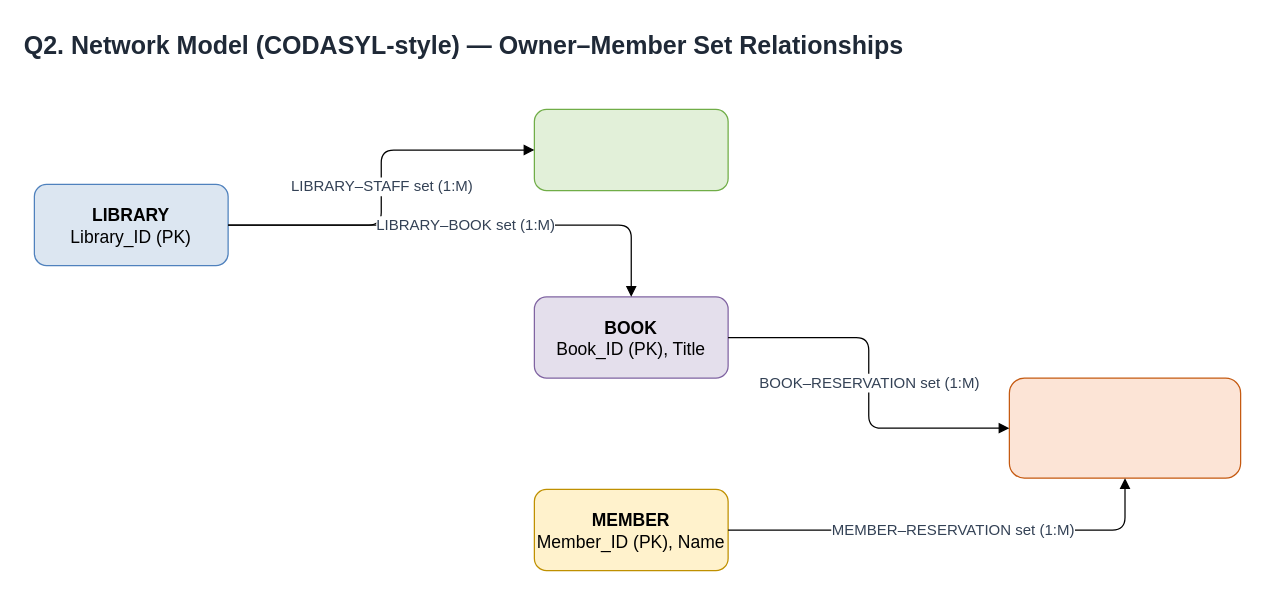
This 1263x593 diagram has some shape labels left out. The centre of each missing label's shape, as x and y in pixels:
"RESERVATION Reservation_ID (PK) Reserved_On, Status" goes at point 1124,427.
"STAFF Staff_ID (PK)" goes at point 630,149.
